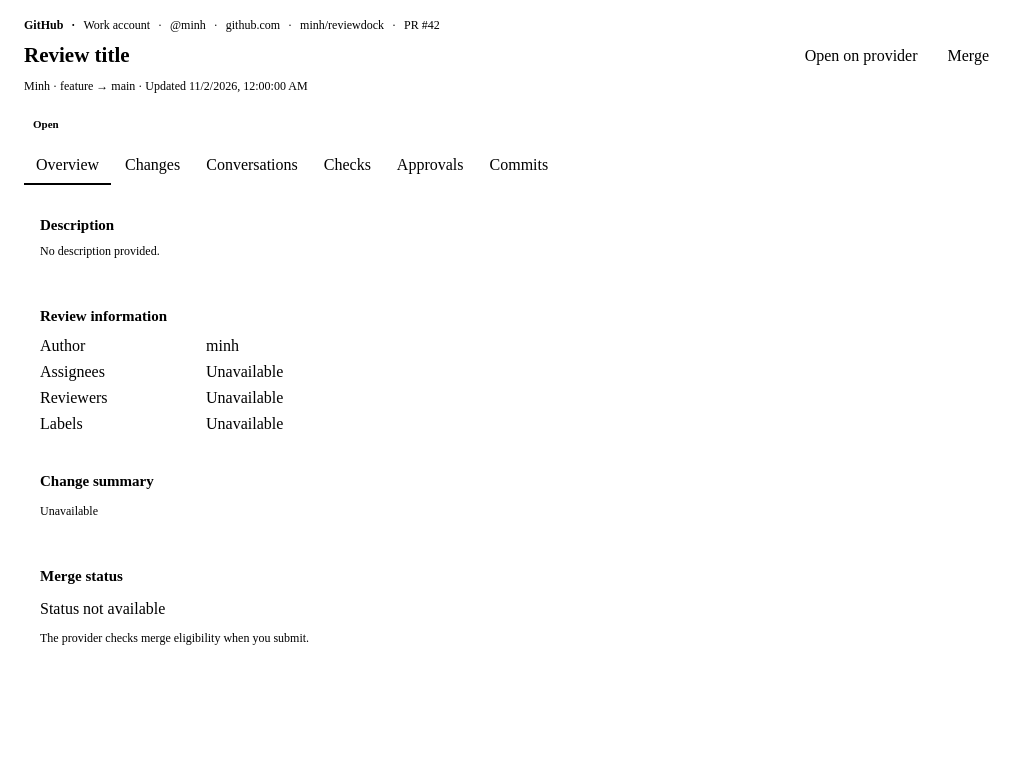
it: ReviewDock webview entry point › keeps Source/Rich selection independent for each Markdown file
Click the button "Changes" at coordinates (153, 165), box x1=113 y1=145 x2=192 y2=185
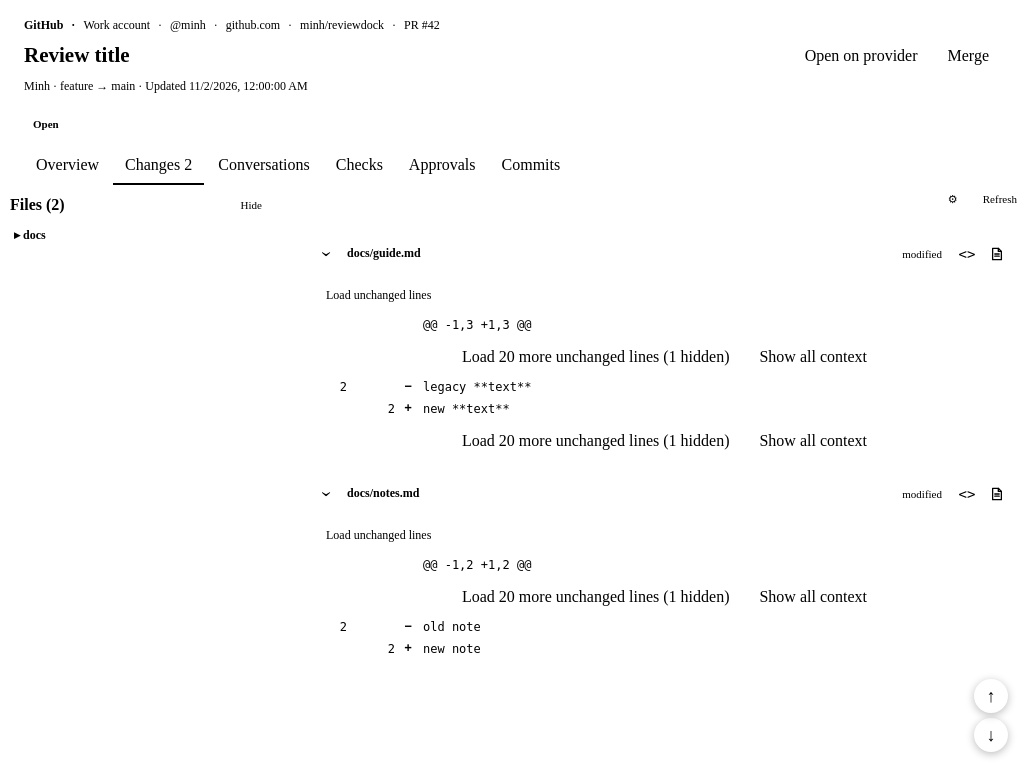
expect the element named "Markdown display for docs/guide.md" is shown: met, box x1=952 y1=240 x2=1012 y2=267
expect the icon in the row of "docs/guide.md" is shown: met, box x1=990 y1=247 x2=1004 y2=261
expect the element with class "diff-row" showing "@@ -1,3 +1,3 @@" is shown: met, box x1=423 y1=318 x2=531 y2=332
Click the button named "Display the rich diff" in the row of "docs/guide.md" at coordinates (997, 254), box x1=982 y1=240 x2=1012 y2=267
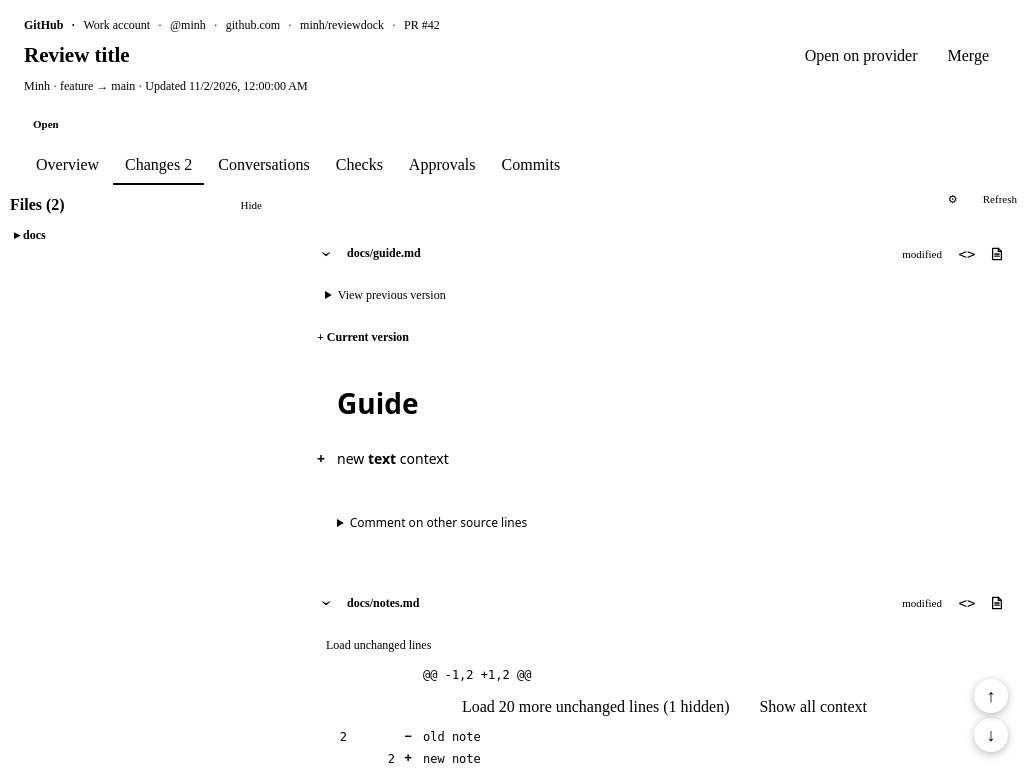
expect the text "text" is shown: met, box x1=368 y1=449 x2=396 y2=468
expect the element with class "diff-row" showing "@@ -1,2 +1,2 @@" is shown: met, box x1=423 y1=668 x2=531 y2=682
expect the text "@@ -1,3 +1,3 @@" is gone: met
Click the button named "Display the rich diff" in the row of "docs/notes.md" at coordinates (997, 603), box x1=982 y1=590 x2=1012 y2=617
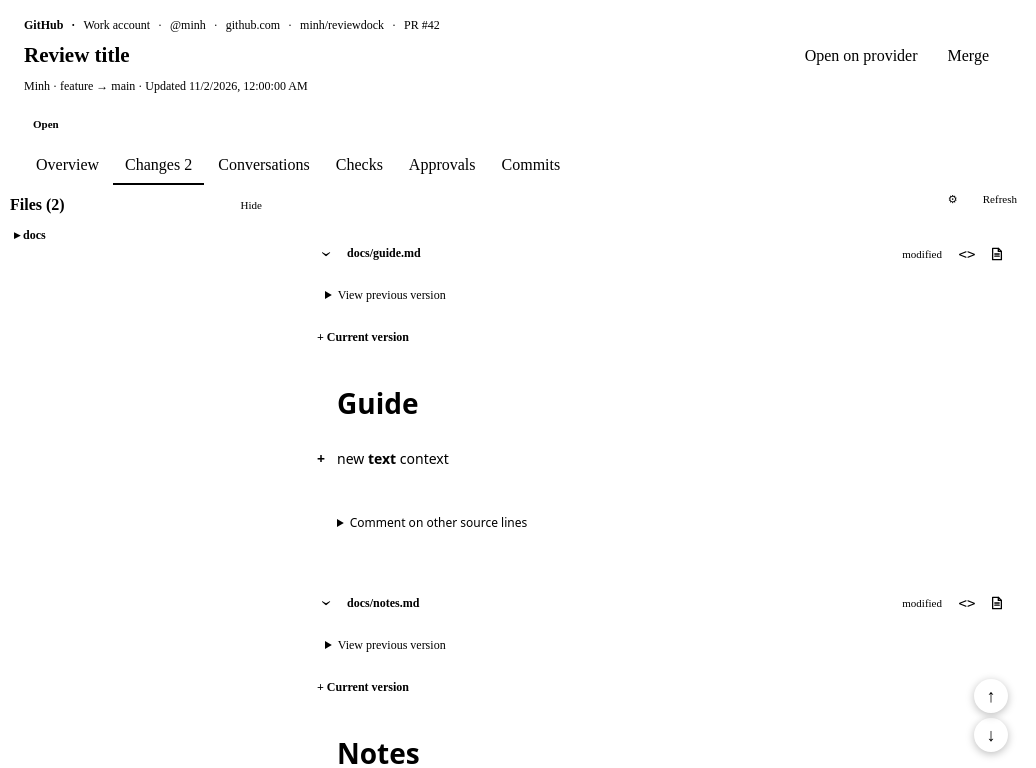
expect the button named "Display the rich diff" in the row of "docs/guide.md" is pressed: met, box x1=982 y1=240 x2=1012 y2=267
Click the button named "Display the source diff" at coordinates (967, 254), box x1=952 y1=240 x2=982 y2=267
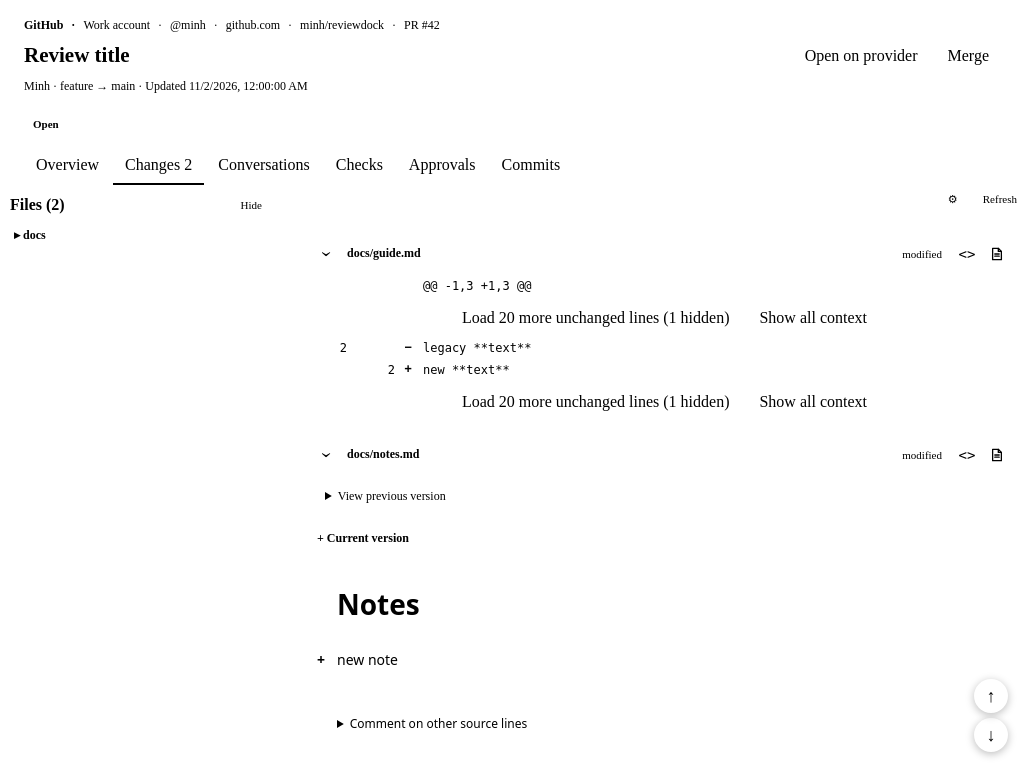
expect the button named "Display the rich diff" in the row of "docs/notes.md" is pressed: met, box x1=982 y1=441 x2=1012 y2=468
Click the button "Conversations" at coordinates (264, 165), box x1=206 y1=145 x2=322 y2=185
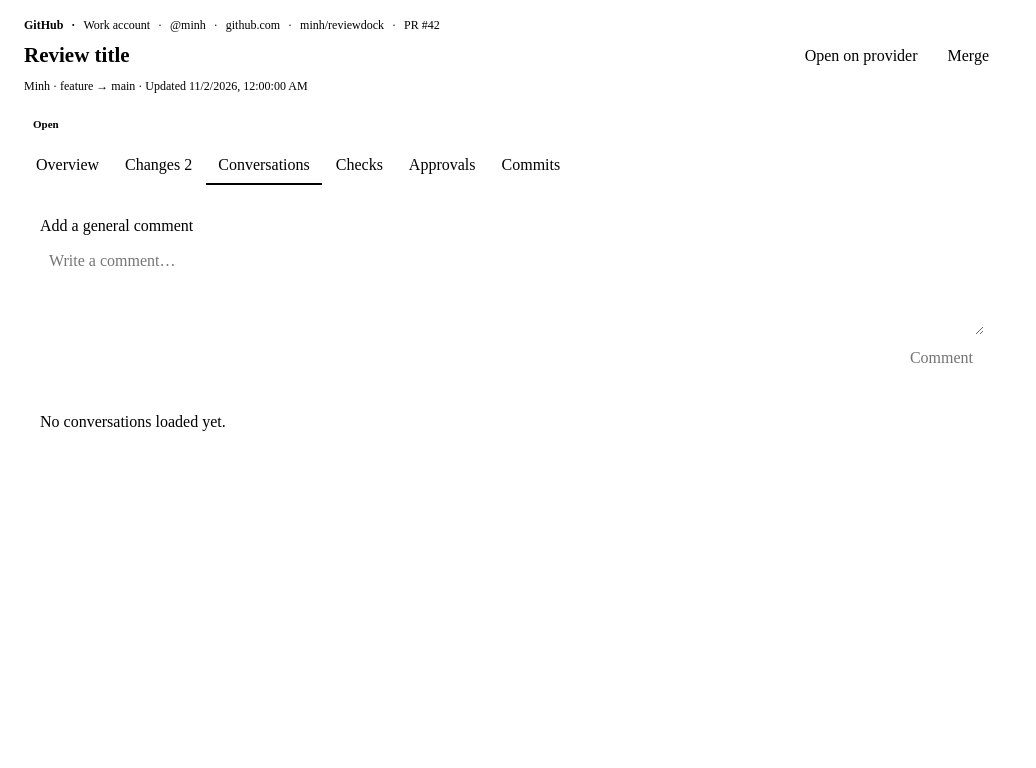
Click the button "Changes 2" at coordinates (159, 165), box x1=113 y1=145 x2=204 y2=185
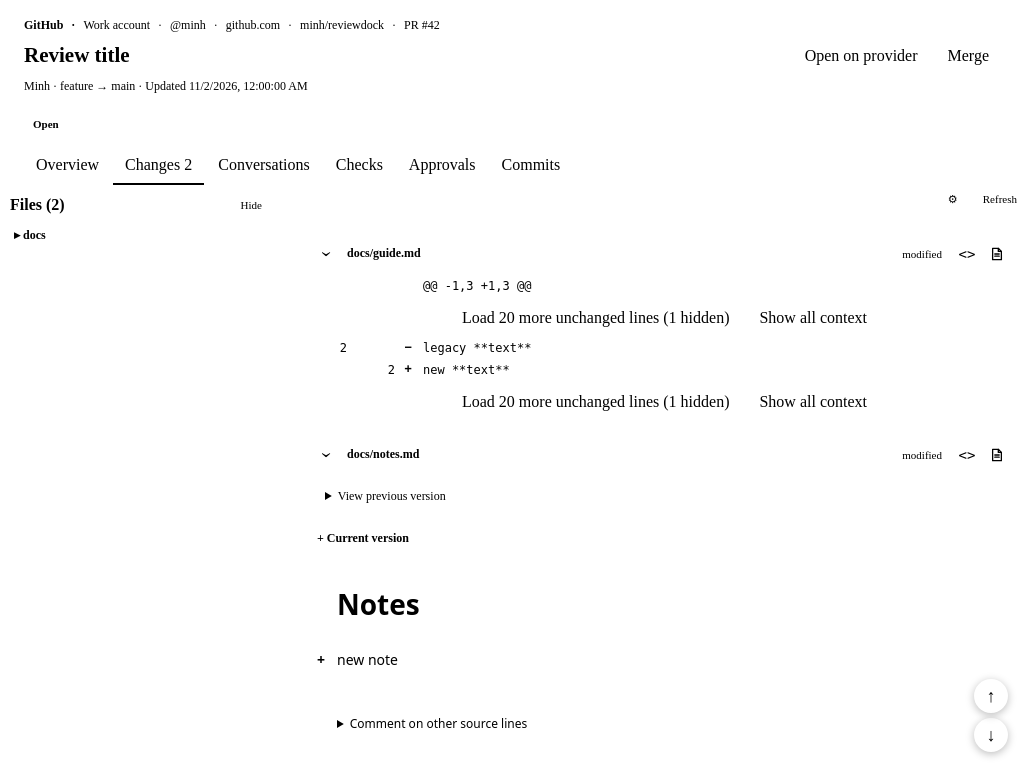
expect the button named "Display the source diff" is pressed: met, box x1=952 y1=240 x2=982 y2=267
expect the button named "Display the rich diff" in the row of "docs/notes.md" is pressed: met, box x1=982 y1=441 x2=1012 y2=468
